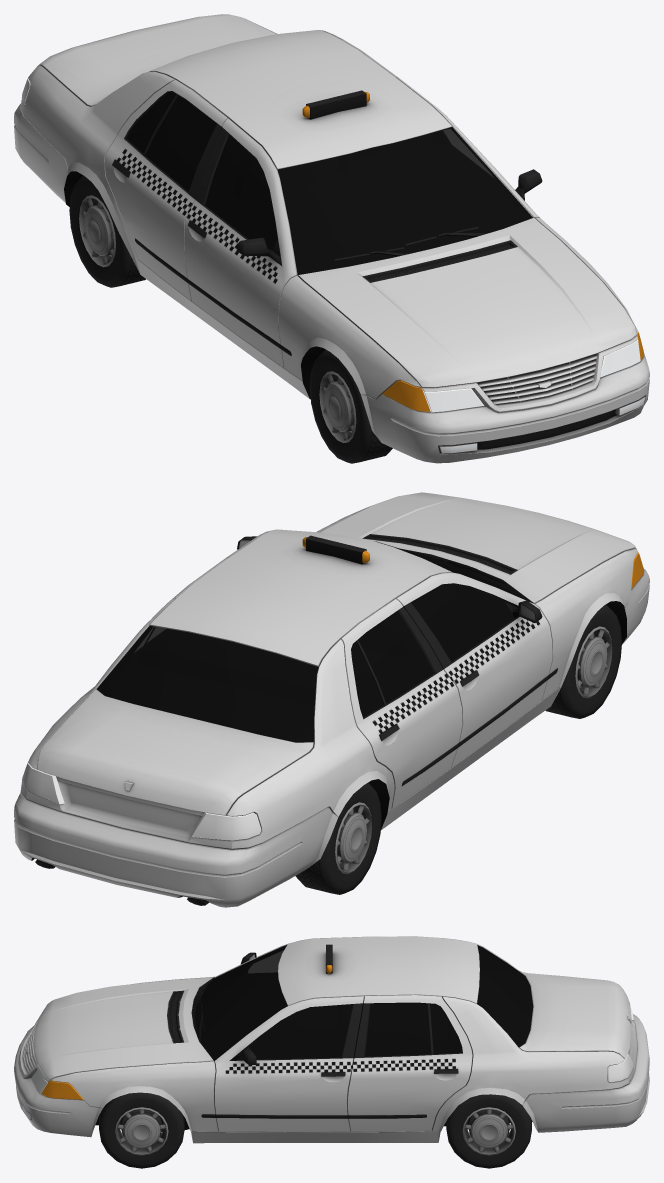
The model's file is car_service_taxi.glb.
3 renders of one model, top to bottom at view 1: azimuth 30°, elevation 25°; view 2: azimuth 150°, elevation 25°; view 3: azimuth 270°, elevation 25°, orthographic. The views are drawn at different scales.
Visible parts, largest first — view 1: Body, Glass, WheelFR, WheelRR, Headlights, IndicatorFR; view 2: Body, Glass, WheelRR, WheelFR, Reverselights; view 3: Body, Glass, WheelFL, WheelRL, IndicatorFL, Reverselights.
Boxes of the visible parts, left/top/right/bottom form: Body: left=14, top=14, right=649, bottom=463; Glass: left=126, top=92, right=532, bottom=275; WheelFR: left=301, top=346, right=392, bottom=463; WheelRR: left=64, top=171, right=145, bottom=287; Headlights: left=422, top=337, right=645, bottom=453; IndicatorFR: left=382, top=380, right=430, bottom=412; Body: left=14, top=492, right=649, bottom=907; Glass: left=96, top=541, right=524, bottom=742; WheelRR: left=295, top=779, right=389, bottom=894; WheelFR: left=545, top=601, right=626, bottom=718; Reverselights: left=21, top=761, right=261, bottom=840; Body: left=14, top=936, right=649, bottom=1152; Glass: left=194, top=945, right=533, bottom=1060; WheelFL: left=97, top=1092, right=187, bottom=1168; WheelRL: left=444, top=1094, right=531, bottom=1168; IndicatorFL: left=41, top=1080, right=83, bottom=1099; Reverselights: left=607, top=1006, right=633, bottom=1082.
Bounding box in the file's own units: 1.85 × 1.39 × 4.7.
5 materials, 2 textured.
